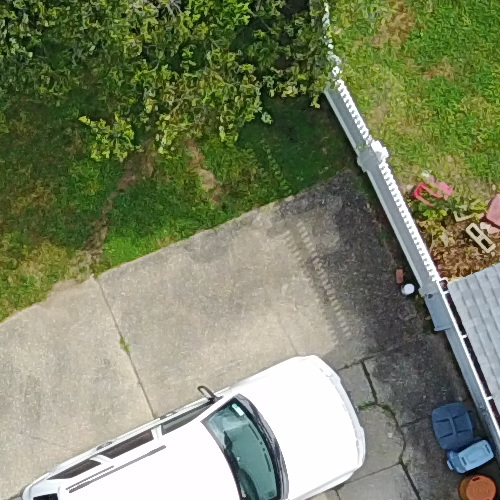container: (446, 439, 500, 485), (451, 467, 500, 500)
trash bin: (419, 401, 482, 456)
